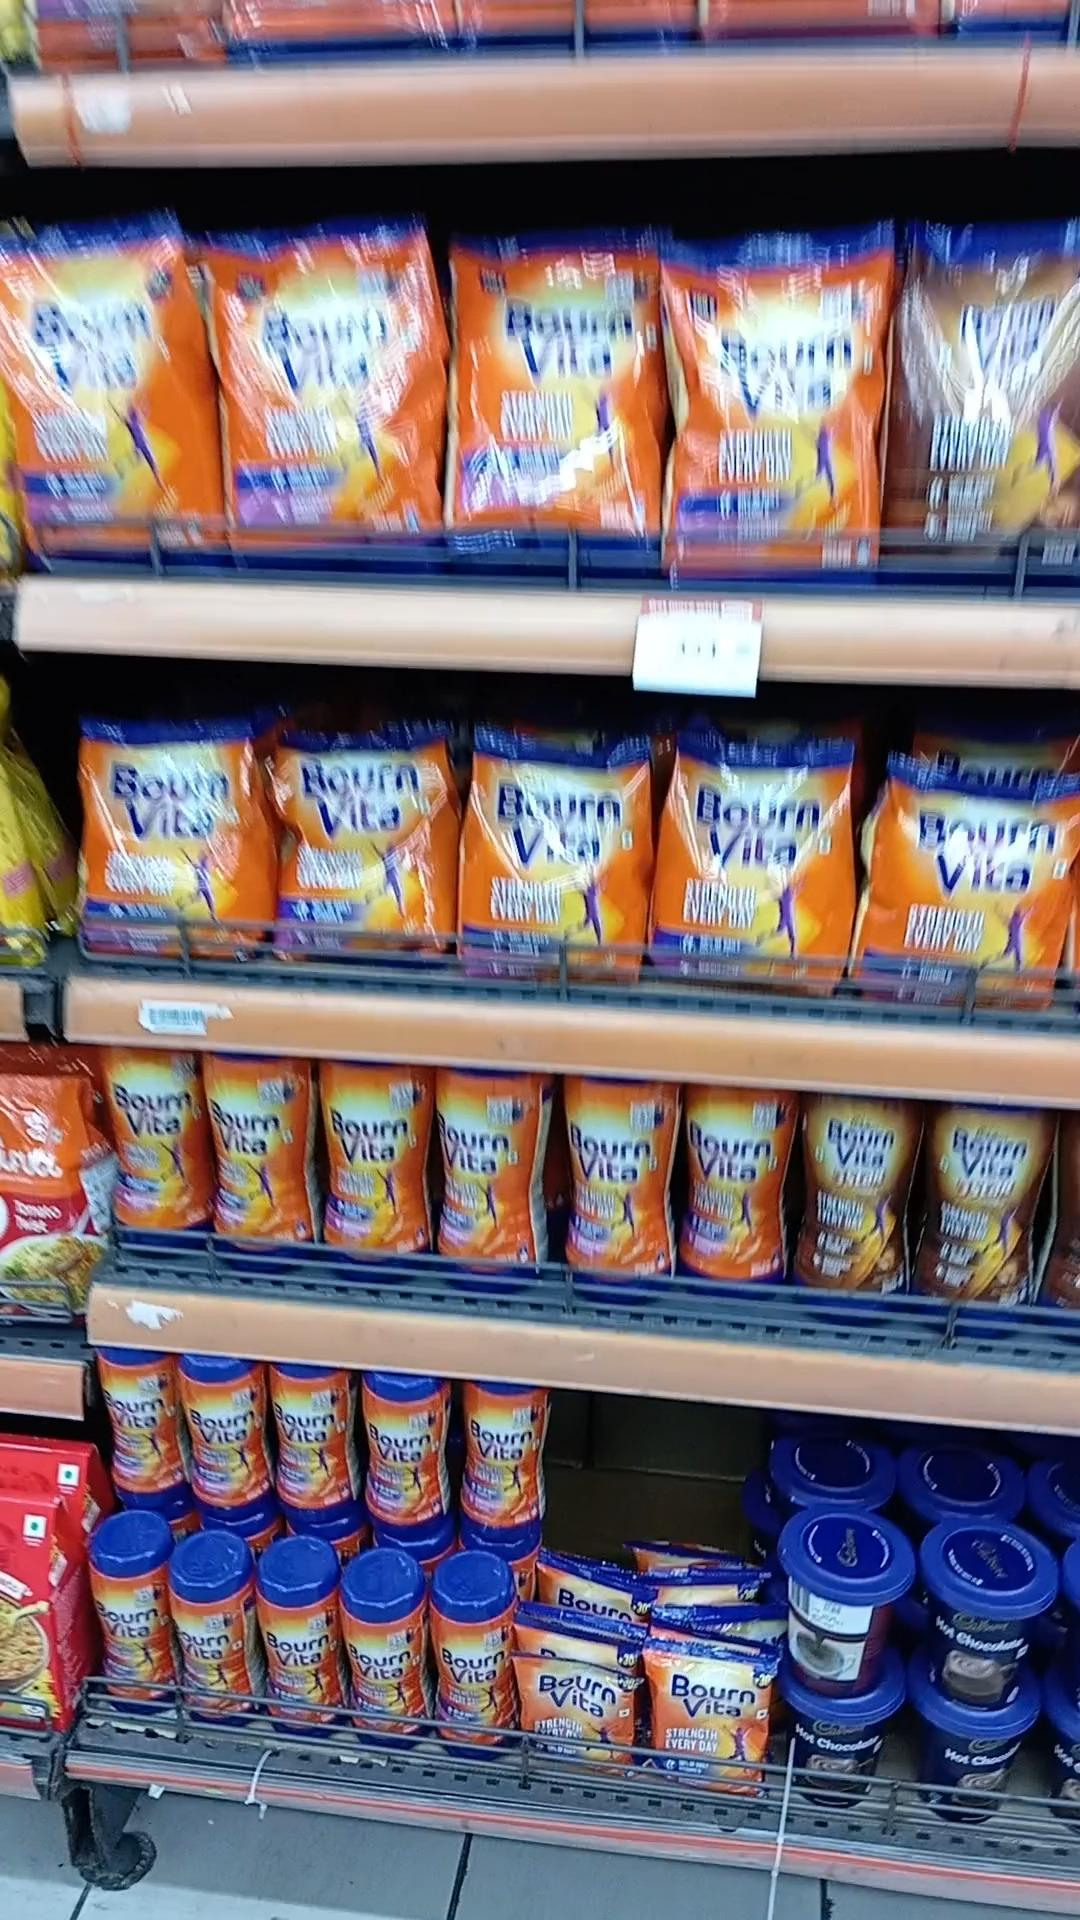BOURN_VITA_200_G_JAR: (84, 1532, 165, 1714), (430, 1582, 509, 1766), (462, 1374, 543, 1544), (258, 1571, 339, 1742), (359, 1371, 442, 1536), (345, 1582, 422, 1750), (182, 1353, 257, 1519), (98, 1345, 174, 1507), (170, 1561, 244, 1725), (270, 1362, 345, 1522)
BOURN_VITA_500_G_JAR: (566, 1060, 669, 1303), (319, 1059, 426, 1278), (199, 1051, 309, 1263), (682, 1084, 783, 1298), (435, 1065, 531, 1290), (100, 1040, 198, 1258)
BOURN_VITA_500_G_POUCH: (873, 767, 1080, 1023), (666, 735, 848, 1006), (458, 725, 638, 988), (74, 715, 256, 965), (280, 731, 448, 971)
BOURN_VITA_750_G_POUCH: (671, 233, 872, 585), (452, 233, 655, 578), (224, 223, 422, 563), (8, 220, 194, 571)
BOURN_VITA_75_G_POUCH: (647, 1646, 766, 1797), (513, 1656, 630, 1778)
BOURN_VITA_FIVE_STAR_MAGIC_500_G_JAR: (930, 1100, 1042, 1337), (802, 1093, 913, 1325)
BOURN_VITA_FIVE_STAR_MAGIC_750_G_POUCH: (890, 219, 1080, 603)
